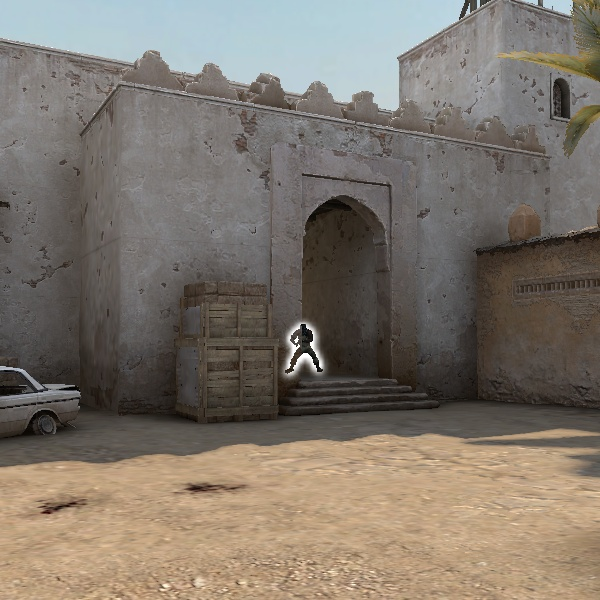t_body: (284, 317, 324, 377)
